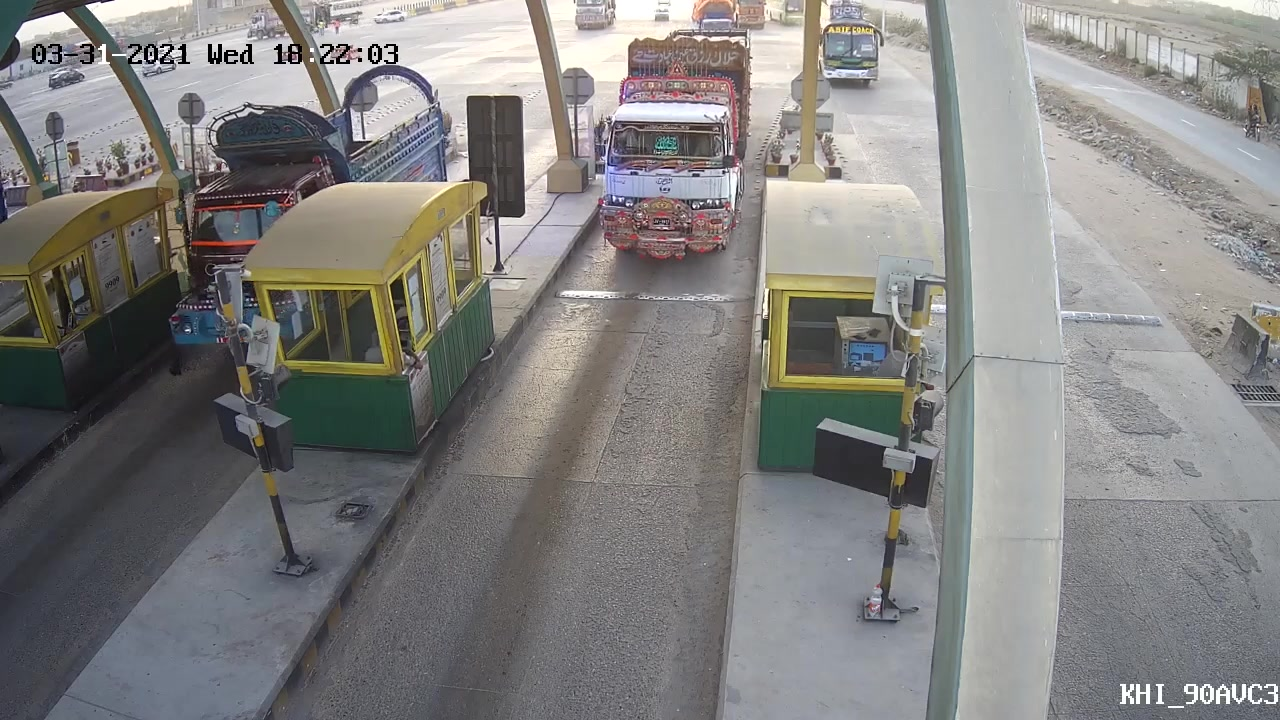F6: (576, 19, 764, 266)
